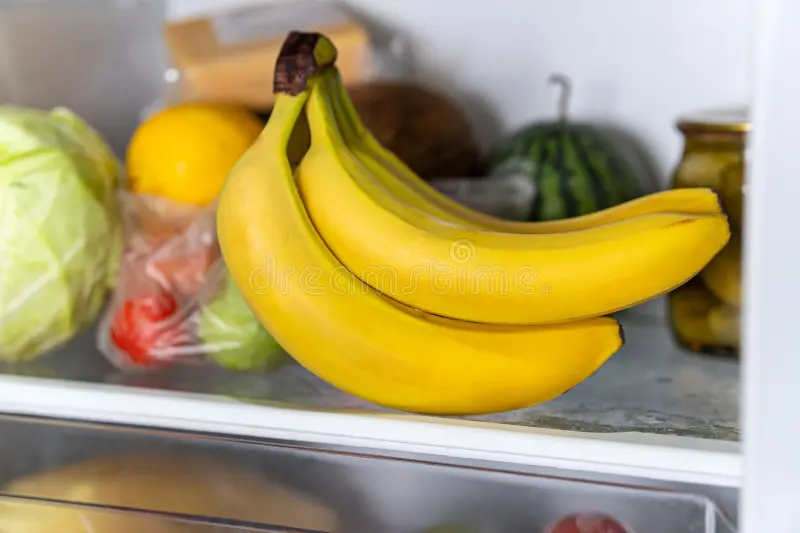banana: (211, 24, 725, 415)
